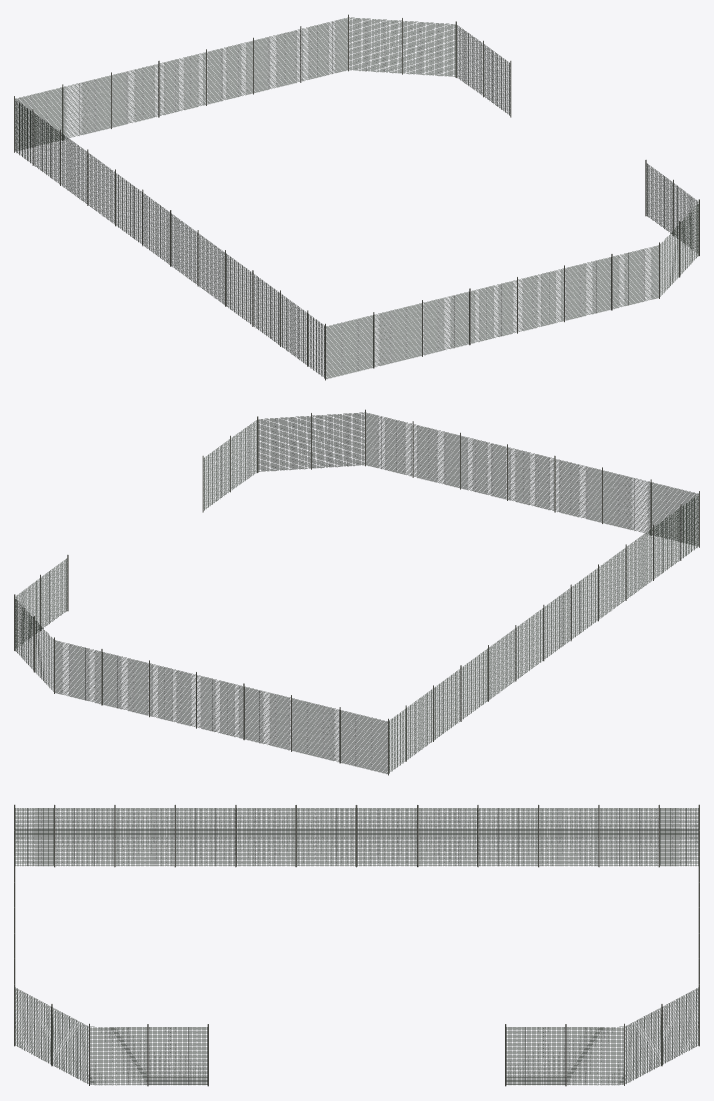
The model's file is st_020_fence.fbx.
The picture shows the model from 3 angles, top to bottom: view 1: azimuth 30°, elevation 25°; view 2: azimuth 150°, elevation 25°; view 3: azimuth 270°, elevation 25°; orthographic projection. The views are drawn at different scales.
Visible parts, largest first — view 1: fence_out; view 2: fence_out; view 3: fence_out.
Boxes of the visible parts, x1=… form: fence_out: x1=14, y1=14, x2=699, y2=380; fence_out: x1=14, y1=409, x2=699, y2=775; fence_out: x1=14, y1=804, x2=699, y2=1086.
Bounding box in the file's own units: 201 × 26.52 × 266.
